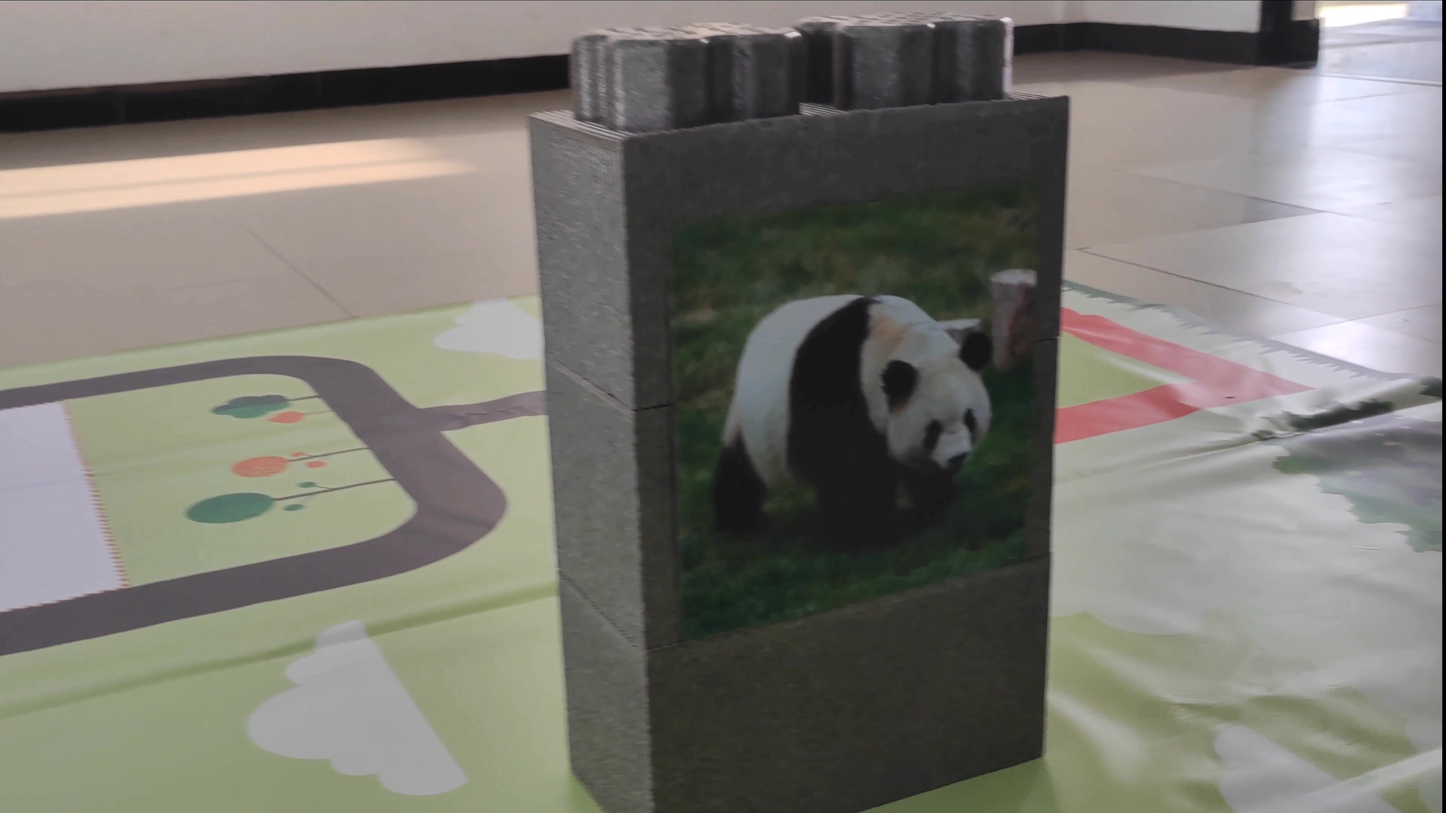panda: (676, 255, 1030, 597)
